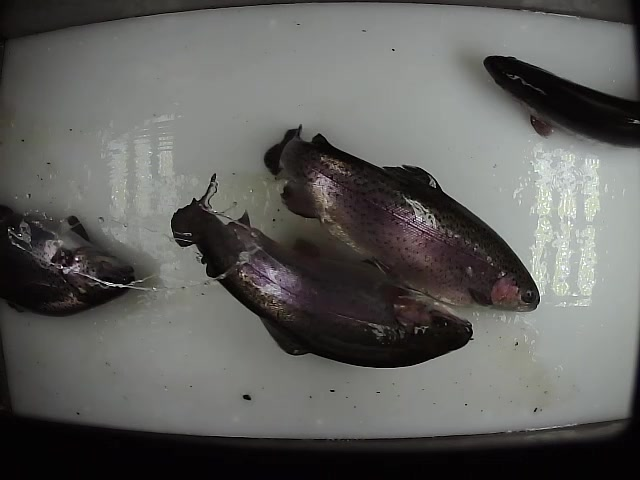fish: (170, 196, 474, 371), (262, 124, 542, 314), (1, 206, 138, 320), (482, 54, 640, 150)
